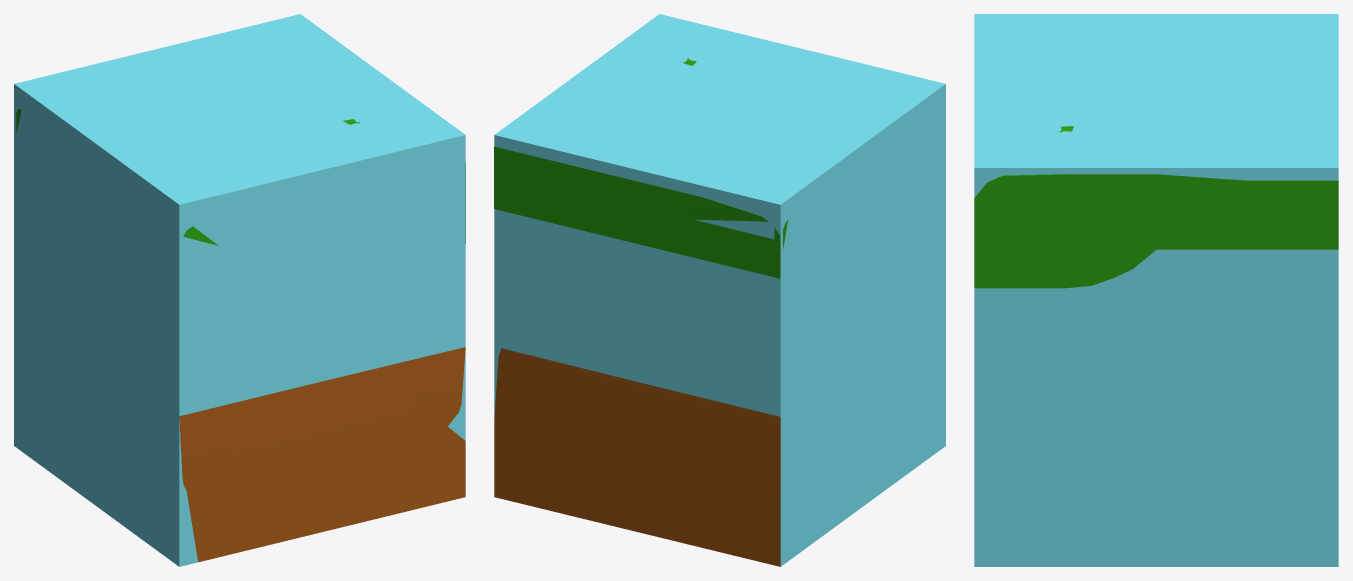
The model's file is PBOX22_Grass_01.FBX.
The picture shows the model from 3 angles, left to right: view 1: azimuth 30°, elevation 25°; view 2: azimuth 150°, elevation 25°; view 3: azimuth 270°, elevation 25°; orthographic projection. The views are drawn at different scales.
Visible parts, largest first — view 1: PBOX22_Grass_01, PBOX22_SUB_TAB_MUD_002; view 2: PBOX22_Grass_01, PBOX22_SUB_TAB_MUD_002, PBOX22_SUB_Grass_002; view 3: PBOX22_Grass_01, PBOX22_SUB_Grass_002.
Boxes of the visible parts, x1,y1,x2,y2 form: PBOX22_Grass_01: (14,14,465,566); PBOX22_SUB_TAB_MUD_002: (179,347,465,562); PBOX22_Grass_01: (494,14,945,566); PBOX22_SUB_TAB_MUD_002: (494,348,780,566); PBOX22_SUB_Grass_002: (494,58,788,278); PBOX22_Grass_01: (974,14,1338,566); PBOX22_SUB_Grass_002: (974,126,1338,288).
Size of the model in its own units: 12.01 by 14.51 by 12.01.
